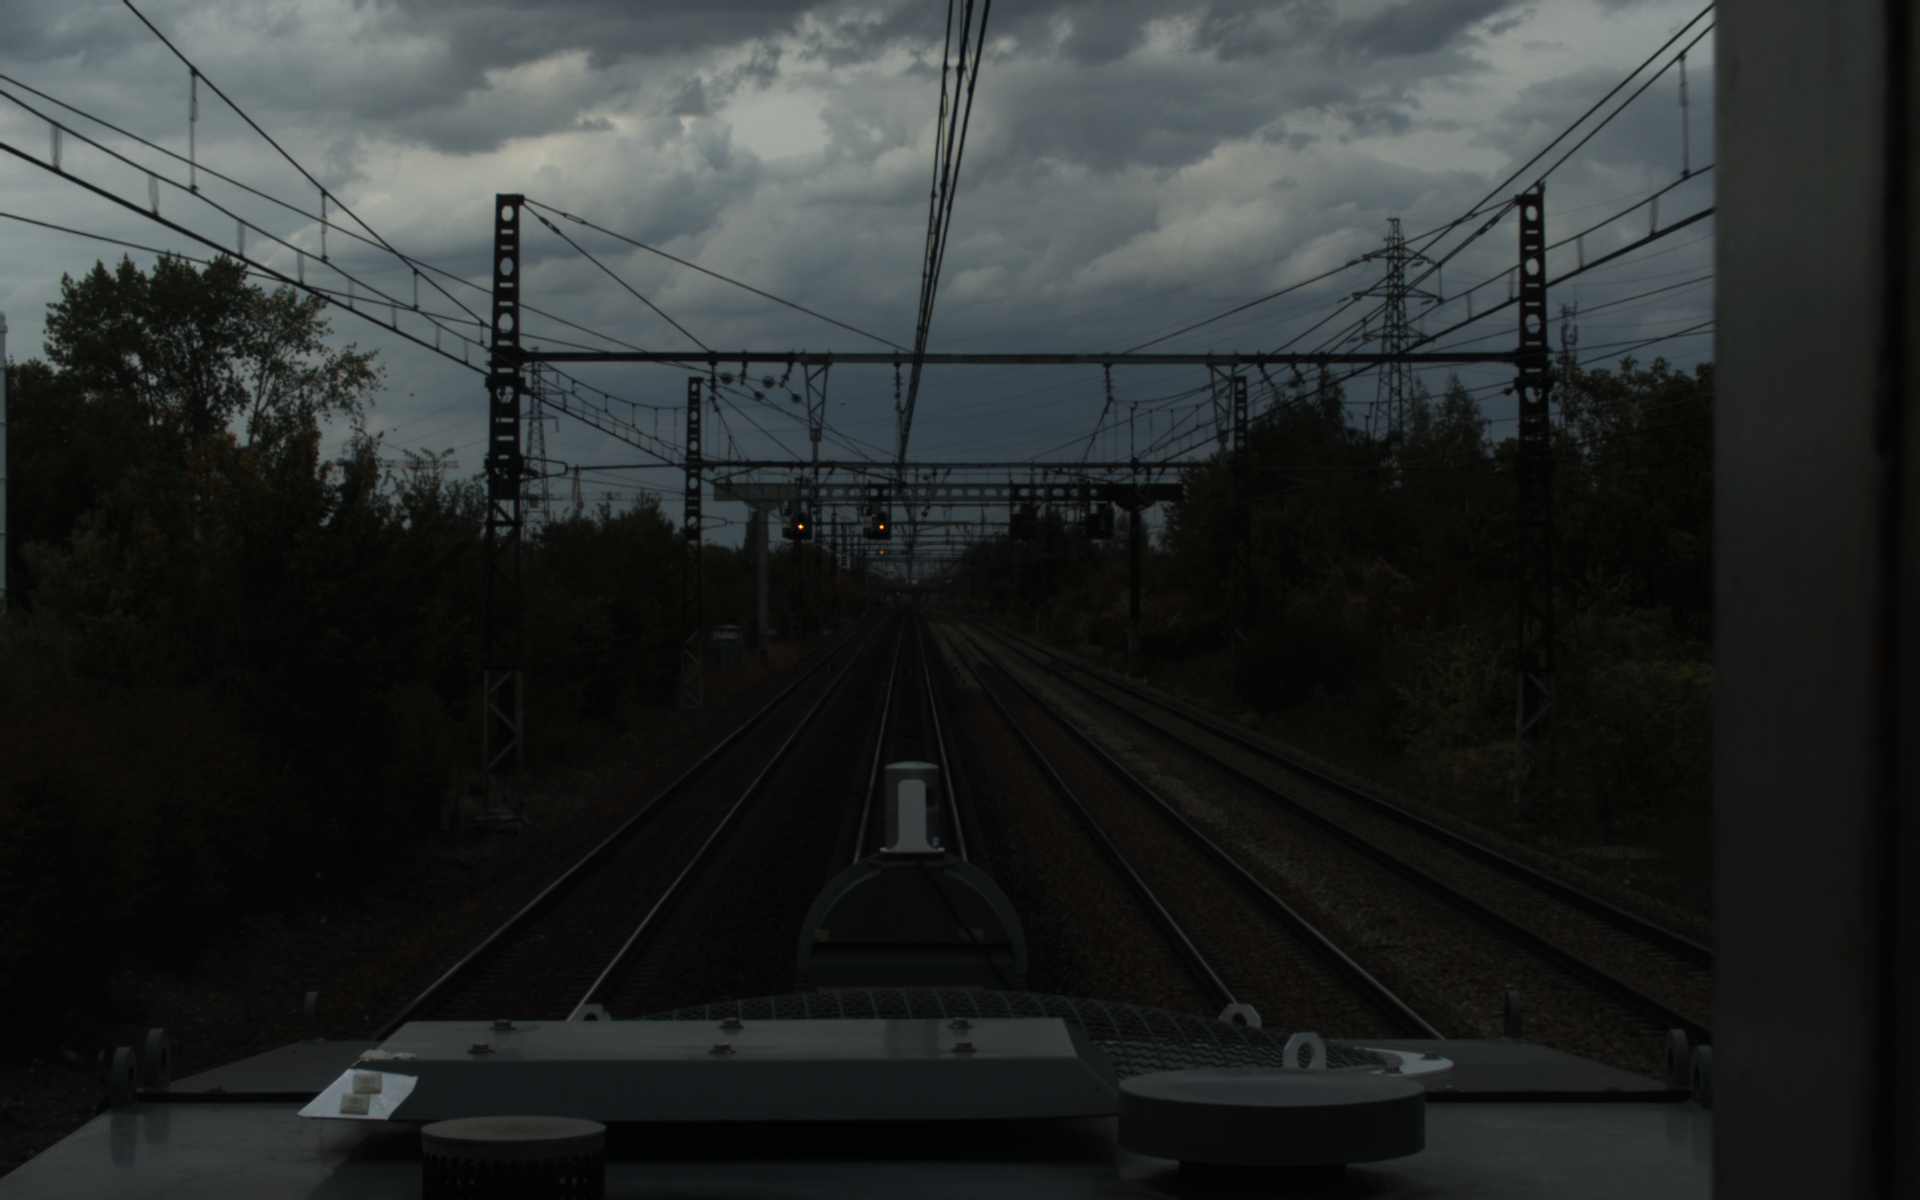Blinking: (874, 510, 887, 534)
Fixed: (793, 512, 809, 534)
